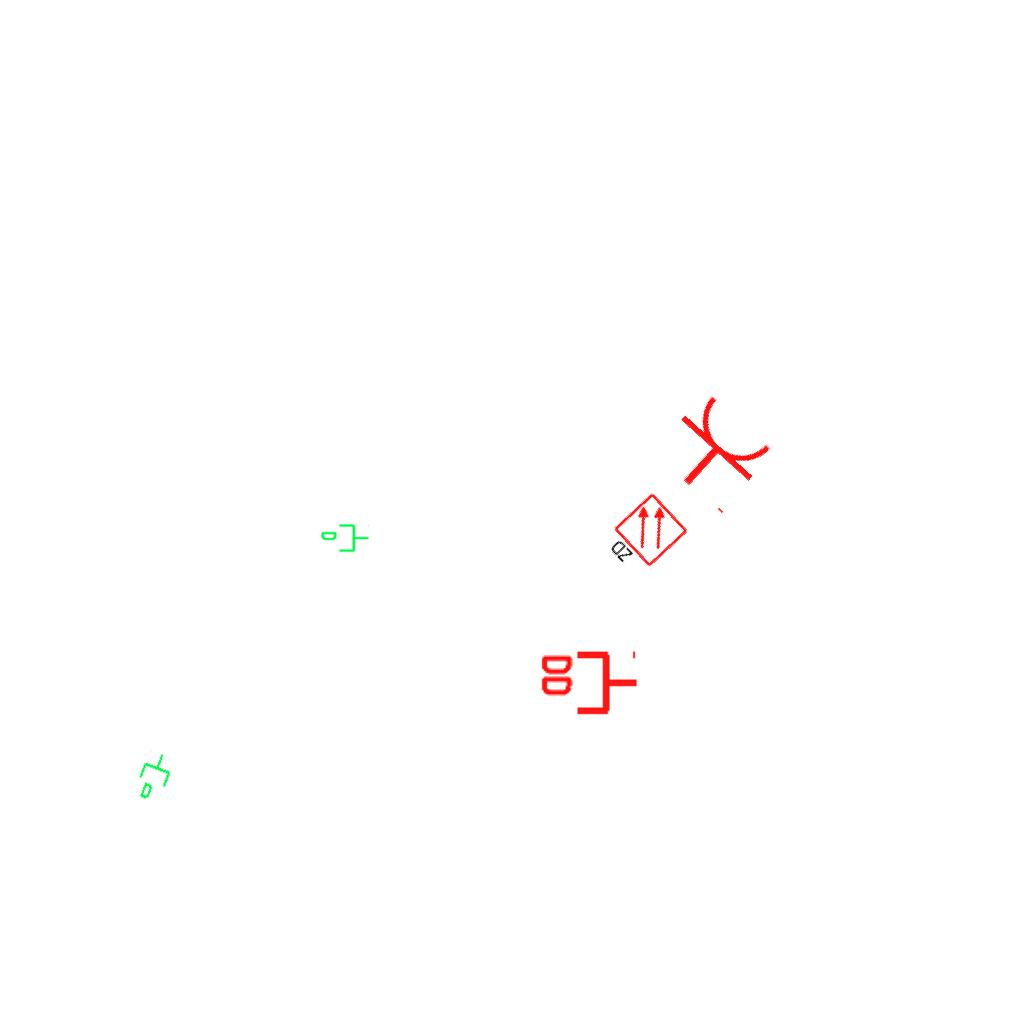Datenanschluss_einfach: (130, 747, 180, 807), (320, 522, 370, 556)
Datenanschluss_zweifach: (537, 650, 640, 719)
Schukosteckdose_einfach: (649, 387, 782, 519)
ZD_Melder_in_Zwischendecke_mit_Revisionsoeffnung_mind_40_x_40_cm: (598, 490, 691, 584)
